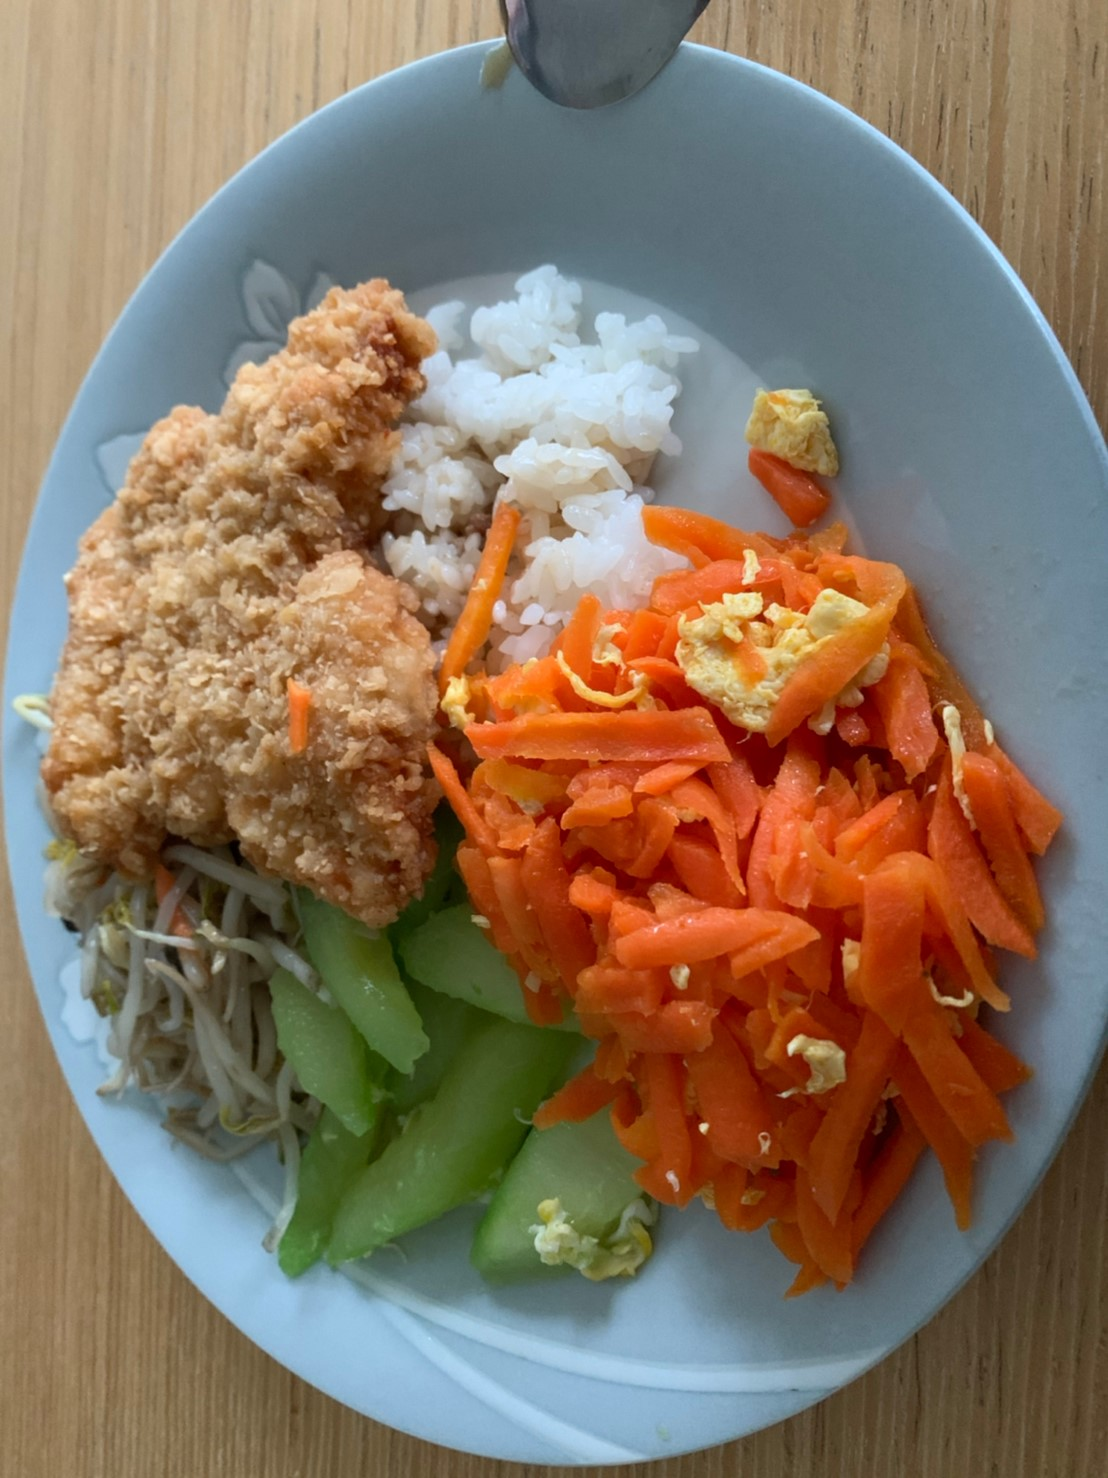carrot_eggs: (457, 518, 1061, 1256)
fried_chicken: (54, 277, 436, 922)
mung_bean_sprouts: (54, 834, 320, 1172)
rice: (378, 279, 695, 651)
